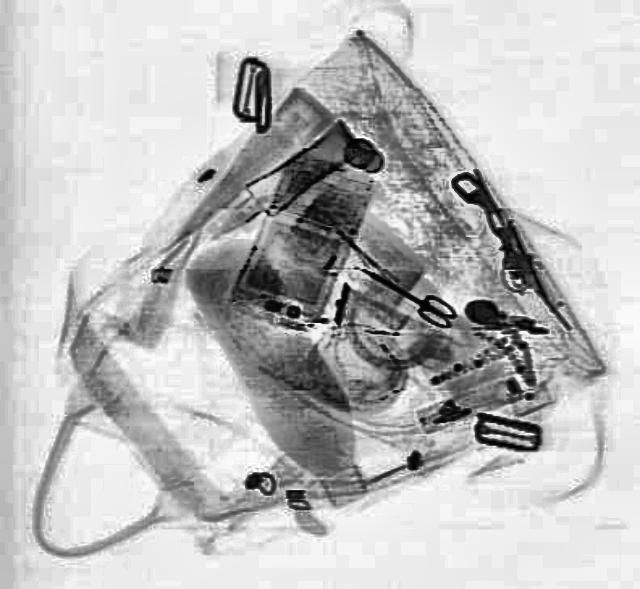Scissors: (350, 257, 458, 329)
